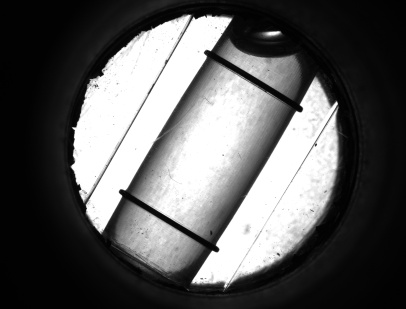line: (217, 64, 287, 93), (129, 204, 202, 231)
